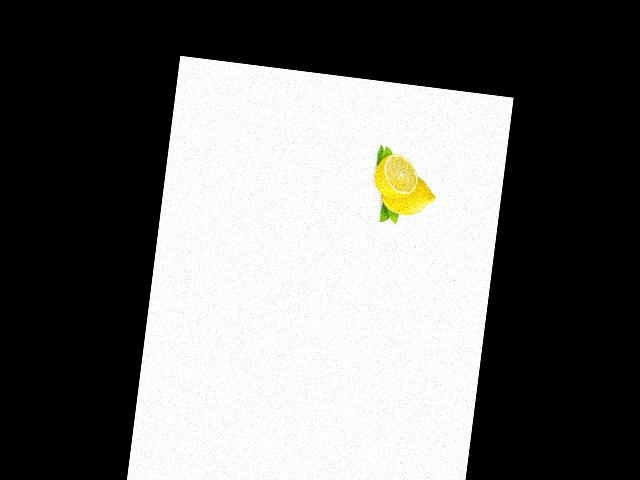lemon: (374, 170, 438, 223)
